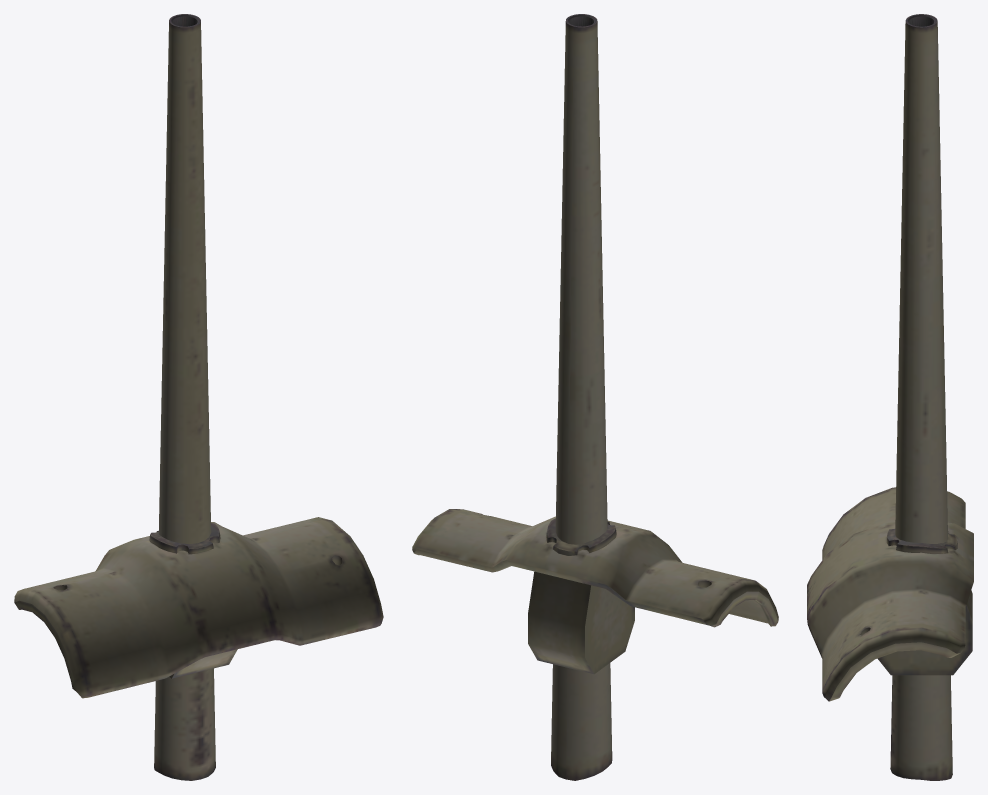
Rendered from Gun_03.glb.
The picture shows the model from 3 angles, left to right: view 1: azimuth 30°, elevation 25°; view 2: azimuth 150°, elevation 25°; view 3: azimuth 270°, elevation 25°; orthographic projection.
Parts seen in each view (by area): view 1: set_0_group_0; view 2: set_0_group_0; view 3: set_0_group_0.
Boxes of the visible parts, x1,y1,x2,y2 form: set_0_group_0: [14, 14, 383, 780]; set_0_group_0: [412, 14, 778, 780]; set_0_group_0: [807, 14, 973, 780].
Size of the model in its own units: 1.04 by 2.45 by 0.4918.
1 material, 1 textured.
